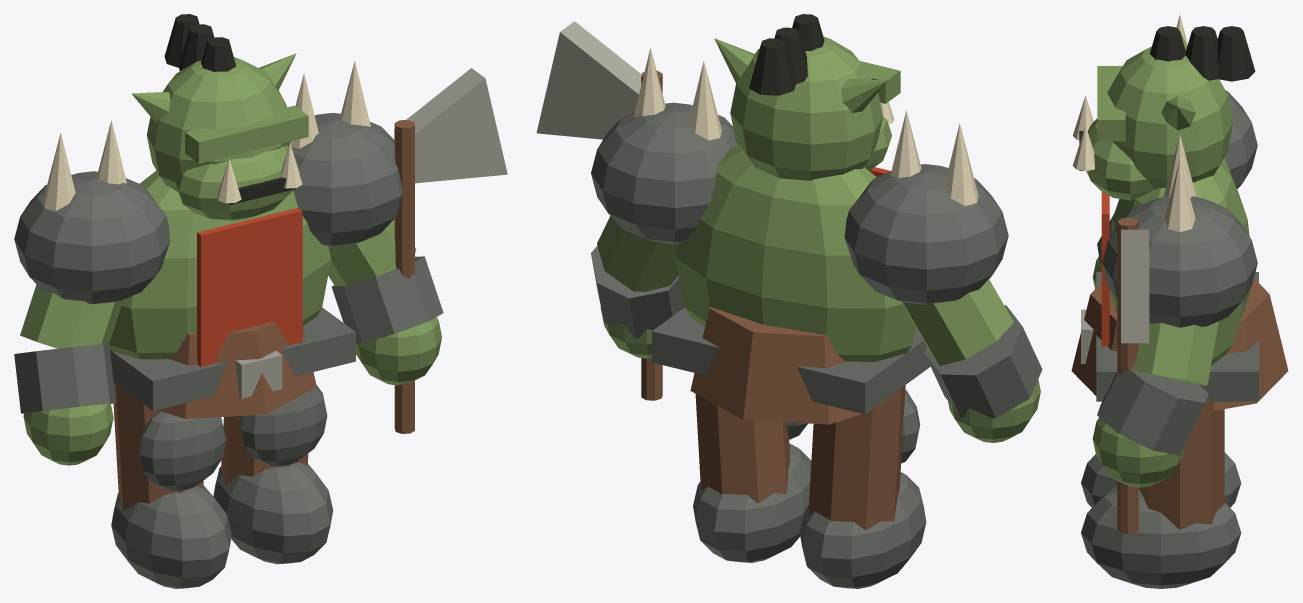
Rendered from orgrimmar-grunt.glb.
3 views of the same model, side by side, from view 1: azimuth 30°, elevation 25°; view 2: azimuth 150°, elevation 25°; view 3: azimuth 270°, elevation 25° (orthographic). The views are drawn at different scales.
Visible parts, largest first — view 1: Grunt_iron, Grunt_skin, Grunt_hide, Grunt_cloth, Grunt_edge, Grunt_bone, Grunt_black; view 2: Grunt_iron, Grunt_skin, Grunt_hide, Grunt_edge, Grunt_bone, Grunt_black; view 3: Grunt_iron, Grunt_skin, Grunt_hide, Grunt_black, Grunt_edge, Grunt_bone, Grunt_cloth.
Boxes of the visible parts, x1,y1,x2,y2 form: Grunt_iron: (14,113,443,588); Grunt_skin: (20,53,441,465); Grunt_hide: (113,120,414,510); Grunt_cloth: (197,208,302,366); Grunt_edge: (235,68,507,398); Grunt_bone: (43,60,370,210); Grunt_black: (164,14,295,204); Grunt_iron: (591,102,1042,588); Grunt_skin: (597,36,1040,442); Grunt_hide: (641,70,905,530); Grunt_edge: (536,21,641,139); Grunt_bone: (633,48,978,205); Grunt_black: (749,14,824,95); Grunt_iron: (1081,90,1258,588); Grunt_skin: (1086,26,1250,487); Grunt_hide: (1071,217,1288,534); Grunt_black: (1079,26,1255,170); Grunt_edge: (1081,229,1149,363); Grunt_bone: (1072,15,1196,231); Grunt_cloth: (1101,191,1109,346).
Size of the model in its own units: 2.32 by 2.47 by 0.92.
